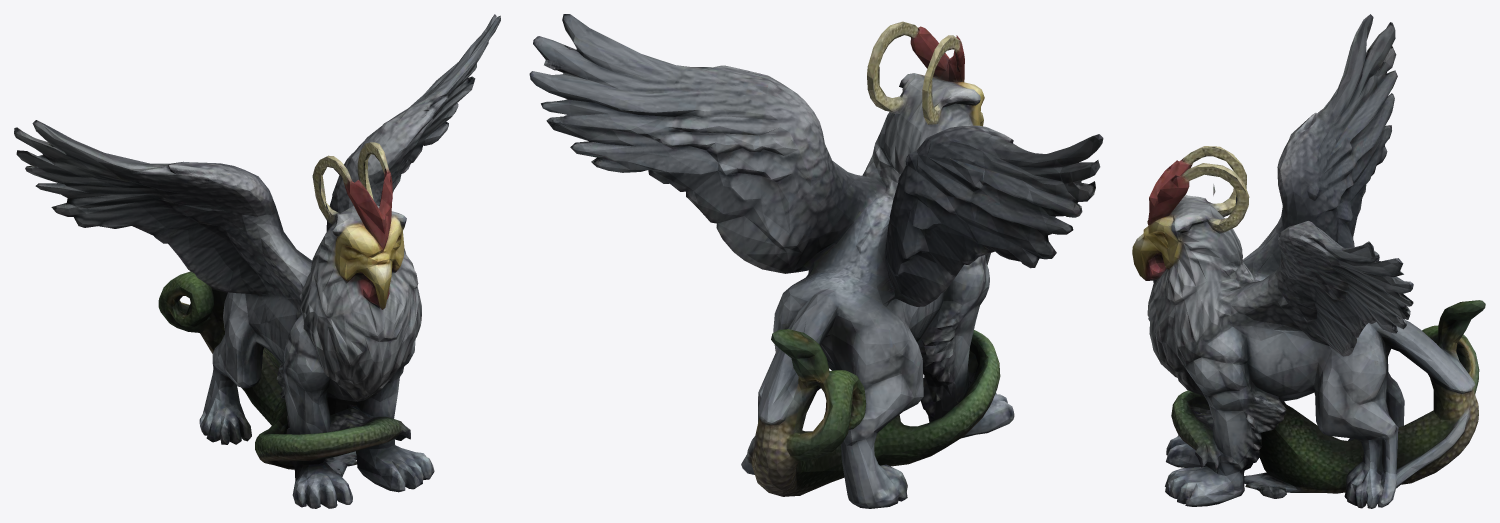
The model's file is stillgaze__chimeraOfRiddles.glb.
3 views of the same model, side by side, from view 1: azimuth 30°, elevation 25°; view 2: azimuth 150°, elevation 25°; view 3: azimuth 270°, elevation 25° (orthographic). The views are drawn at different scales.
Parts seen in each view (by area): view 1: world; view 2: world; view 3: world.
Part boxes in pixels (bbox=[...]): world: bbox=[14, 14, 500, 508]; world: bbox=[529, 14, 1103, 508]; world: bbox=[1132, 14, 1485, 508].
Size of the model in its own units: 0.994 by 0.7229 by 0.6425.
Materials: 1 (1 with a texture image).
